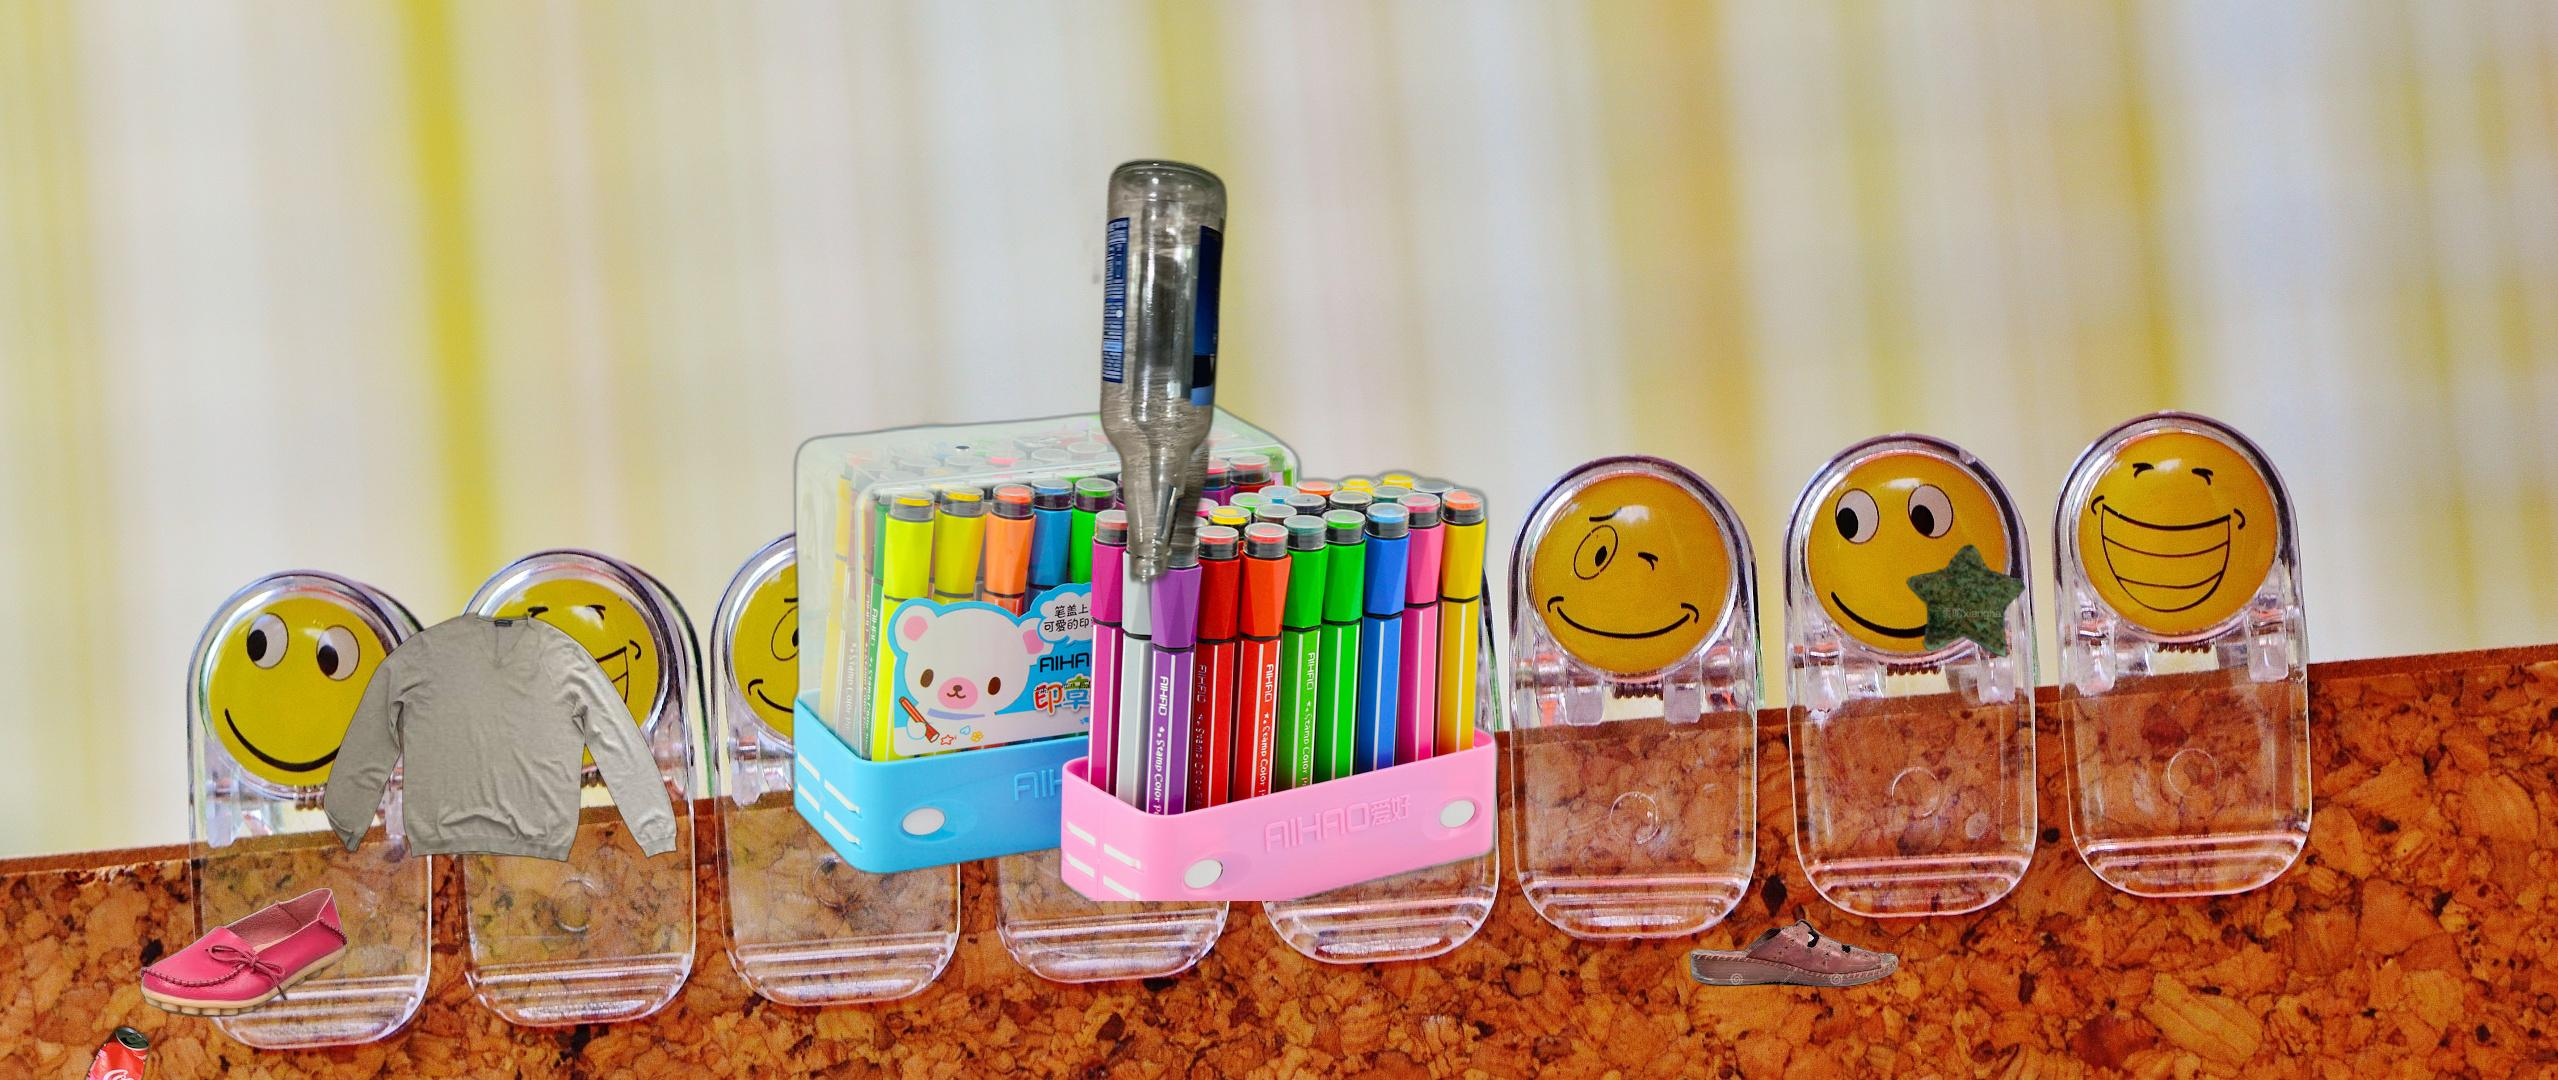biological: (1904, 542, 2028, 660)
clothes: (320, 608, 680, 867)
glass: (1085, 154, 1231, 663)
metal-cans: (74, 1021, 154, 1080)
penholder: (785, 158, 1506, 901)
shoes: (137, 885, 351, 1020), (1687, 916, 1901, 990)
